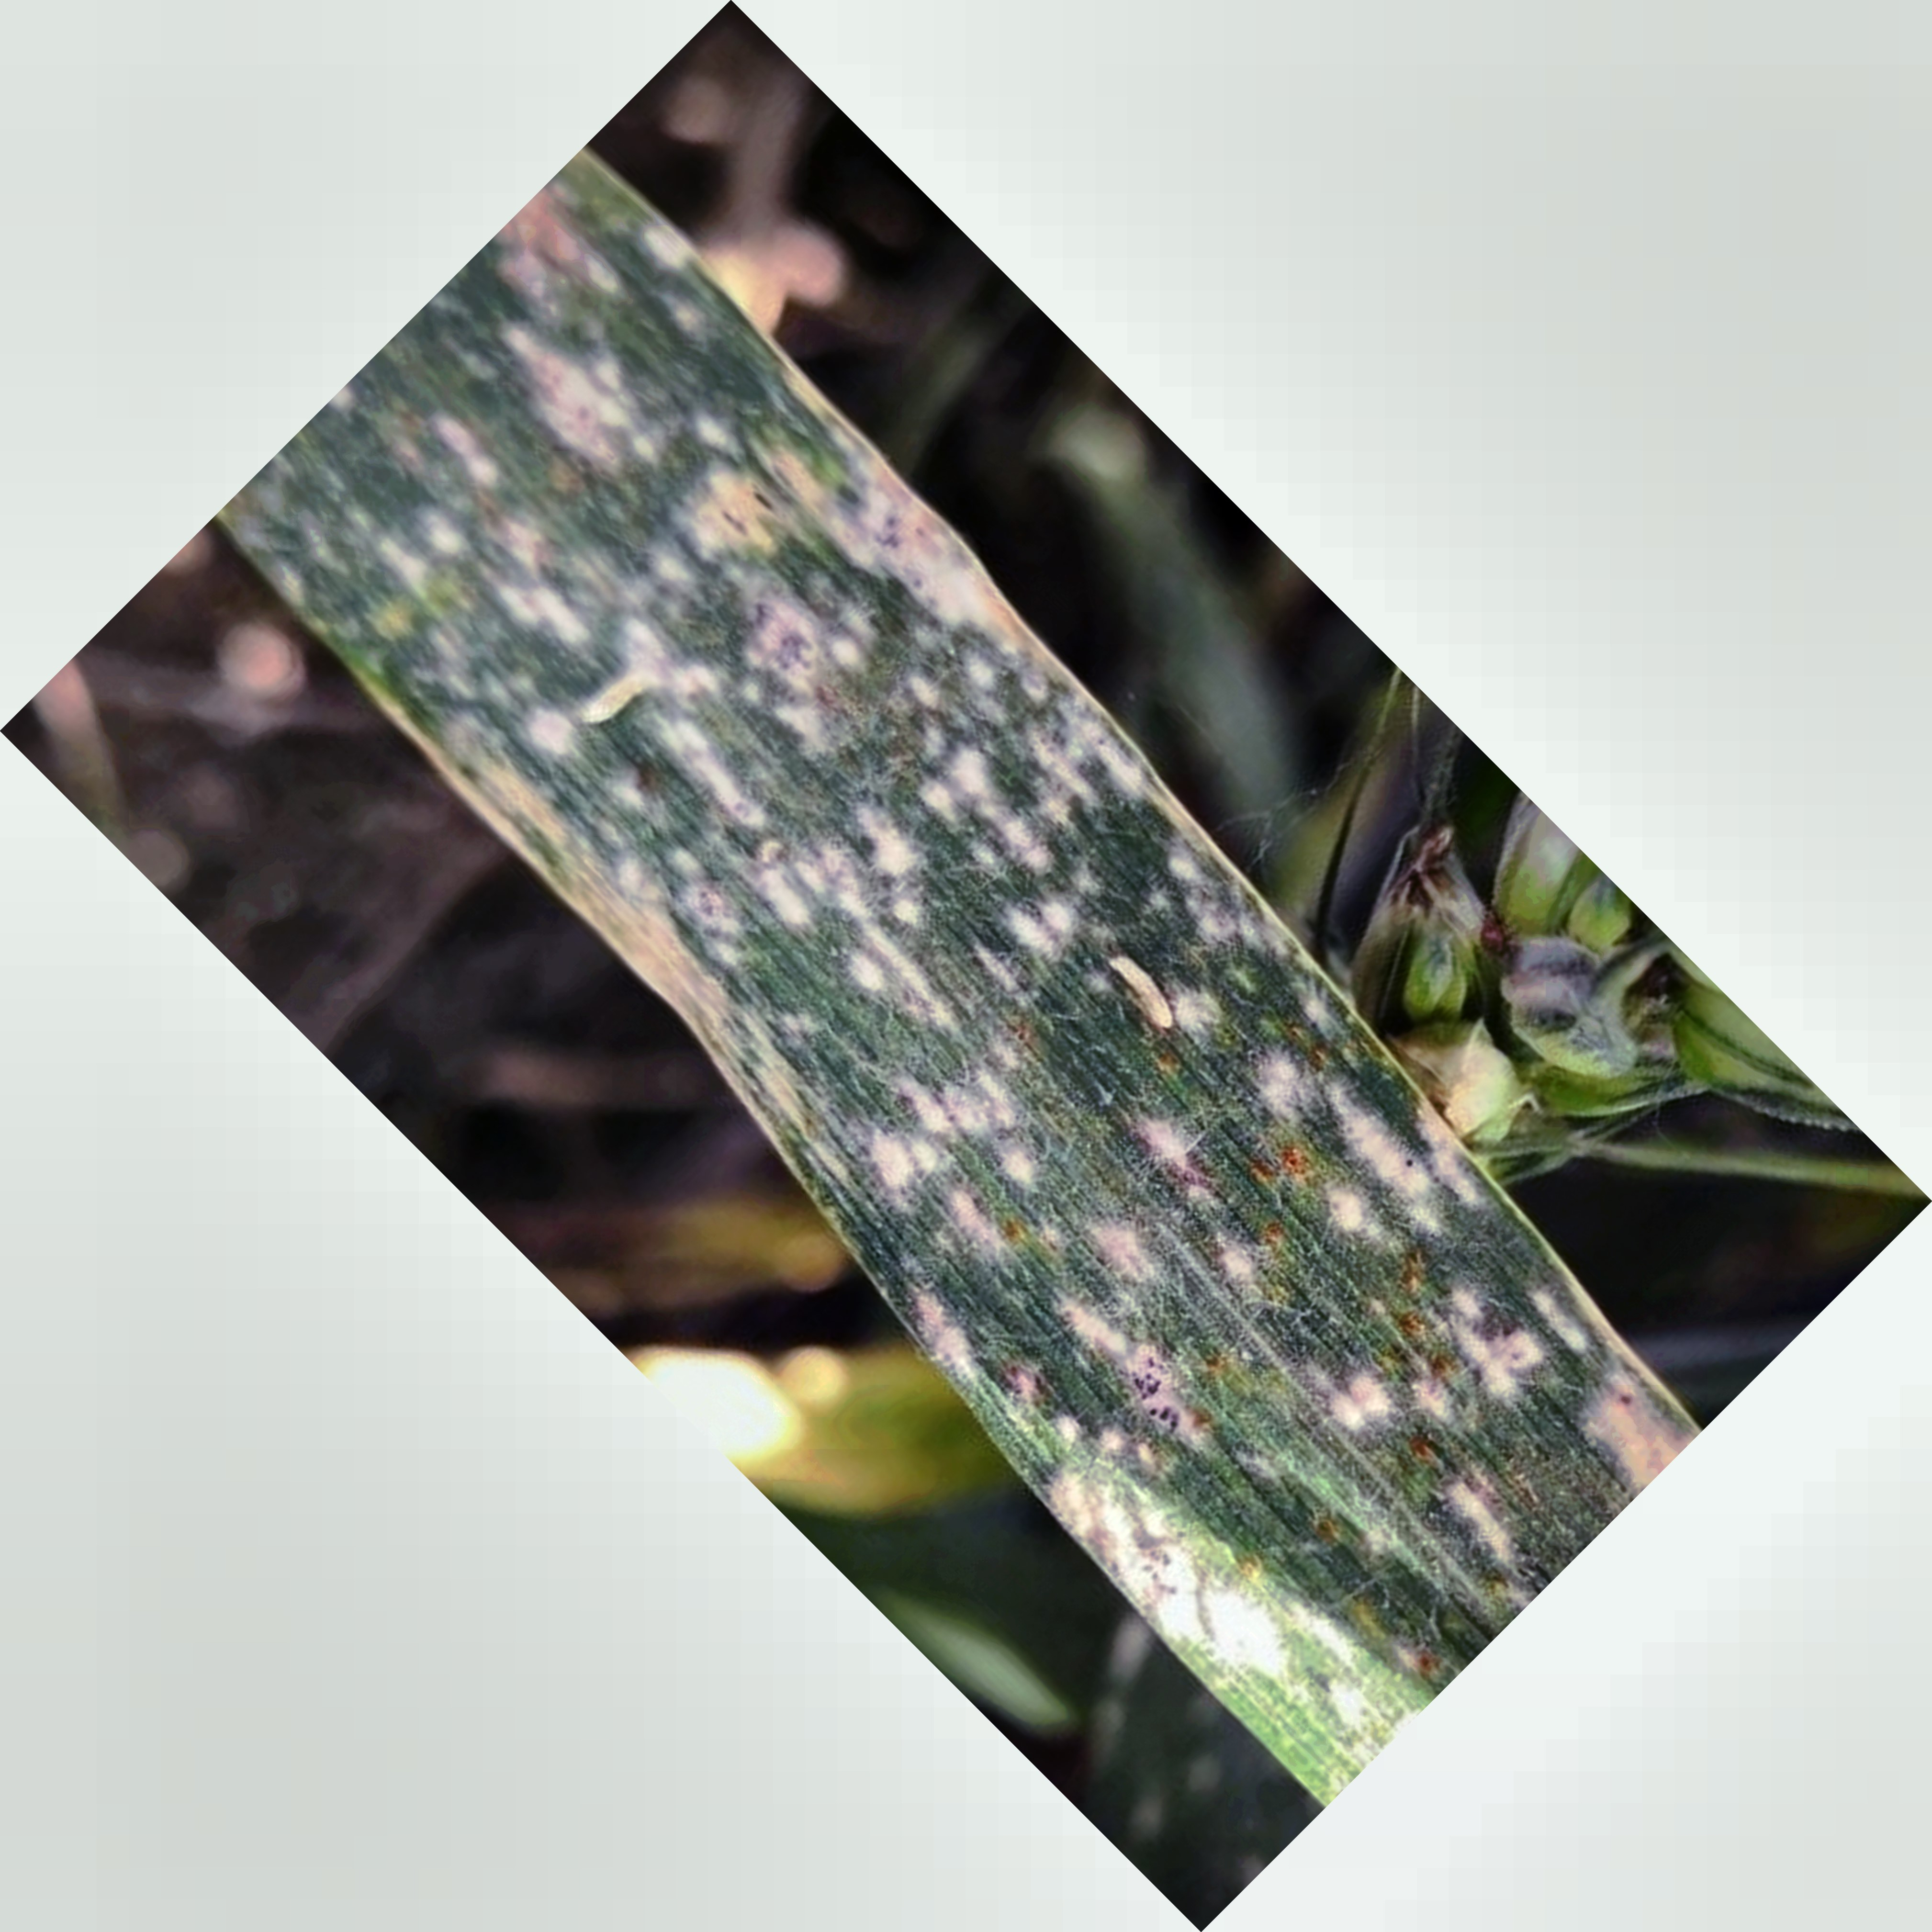Powdery Mildew: (524, 421, 1477, 1606)
